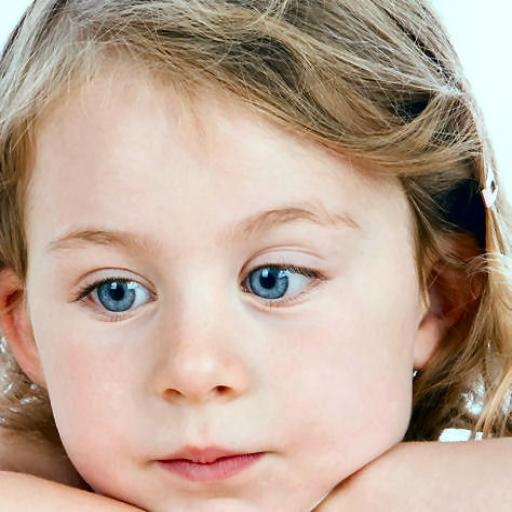Autism: (13, 13, 512, 503)
